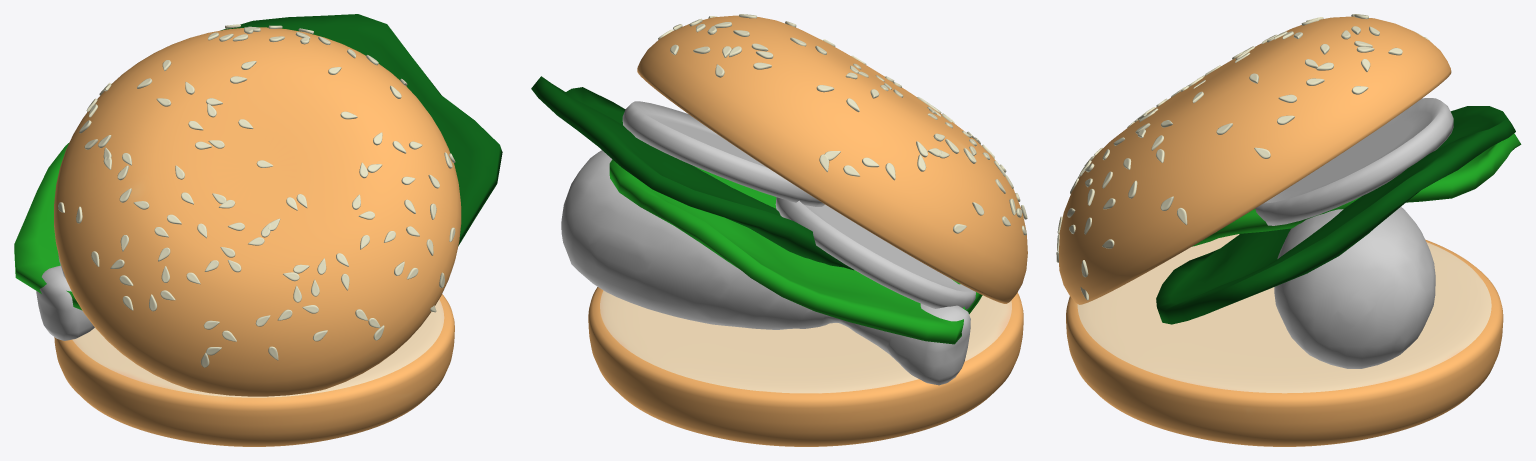
Rendered from BurgerPollo.fbx.
3 views of the same model, side by side, from view 1: azimuth 30°, elevation 25°; view 2: azimuth 150°, elevation 25°; view 3: azimuth 270°, elevation 25° (orthographic). The views are drawn at different scales.
Parts seen in each view (by area): view 1: PanArriba.002, PanBajo.002, Lechuga.005, Lechuga.004, Pollo; view 2: PanArriba.002, PanBajo.002, Pollo, Lechuga.004, Lechuga.005, Tomate.007, Tomate.006; view 3: PanArriba.002, PanBajo.002, Pollo, Lechuga.005, Tomate.006, Lechuga.004.
Boxes of the visible parts, bbox=[...] form: PanArriba.002: bbox=[54, 24, 461, 396]; PanBajo.002: bbox=[54, 294, 454, 446]; Lechuga.005: bbox=[220, 14, 502, 245]; Lechuga.004: bbox=[14, 142, 82, 310]; Pollo: bbox=[36, 265, 94, 340]; PanArriba.002: bbox=[637, 14, 1027, 303]; PanBajo.002: bbox=[588, 287, 1023, 446]; Pollo: bbox=[561, 150, 970, 385]; Lechuga.004: bbox=[609, 159, 982, 344]; Lechuga.005: bbox=[531, 76, 853, 270]; Tomate.007: bbox=[775, 197, 975, 309]; Tomate.006: bbox=[622, 101, 824, 206]; PanArriba.002: bbox=[1056, 14, 1451, 304]; PanBajo.002: bbox=[1066, 234, 1503, 446]; Pollo: bbox=[1274, 207, 1435, 368]; Lechuga.005: bbox=[1156, 106, 1515, 324]; Tomate.006: bbox=[1255, 98, 1453, 225]; Lechuga.004: bbox=[1192, 133, 1521, 246].
Bounding box in the file's own units: 0.3248 × 0.2366 × 0.2853.
